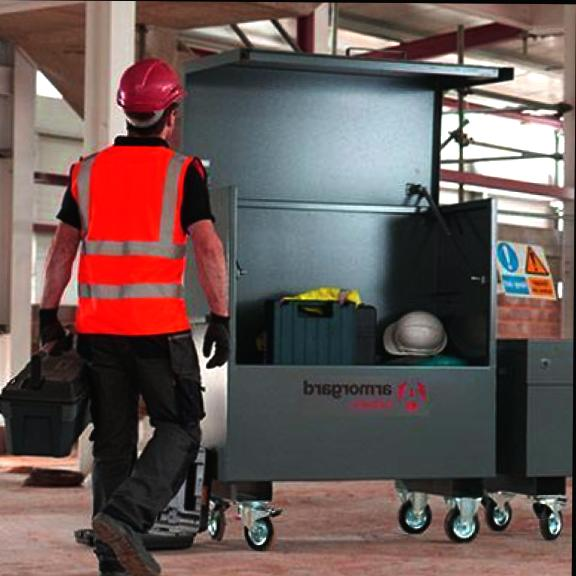safety_vest: (72, 131, 198, 337)
